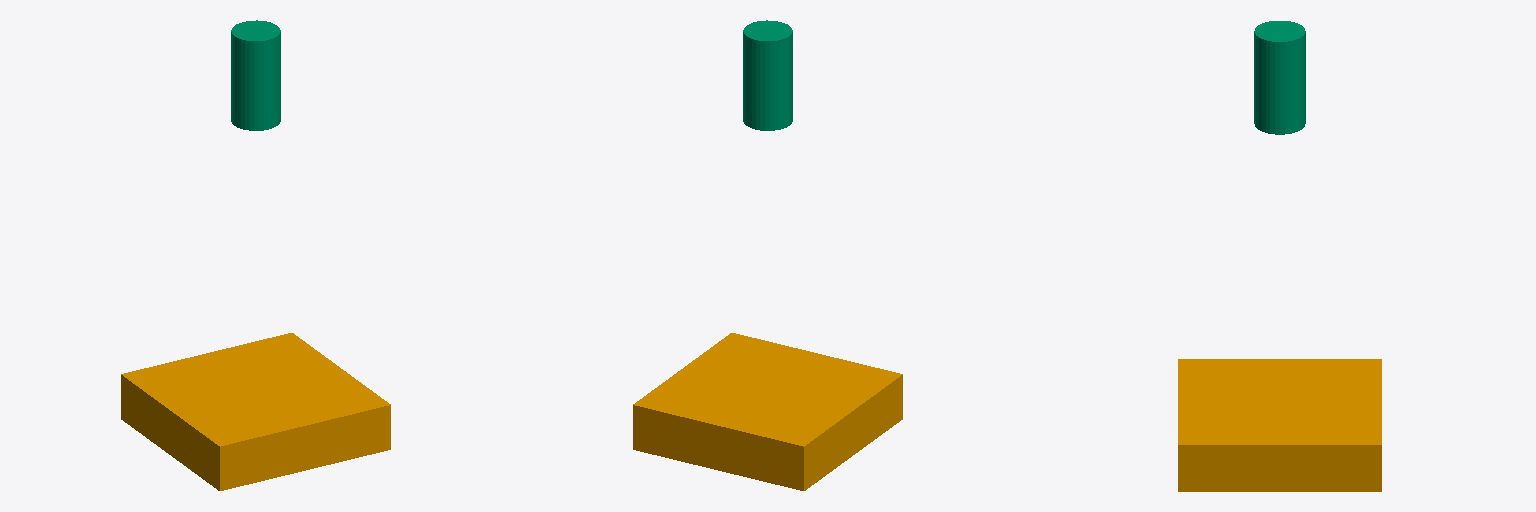
The robot description file, URDF, robot "myArm":
<?xml version="1.0"?>
<robot name="myArm">
  <link name="base_link">
    <visual>
      <geometry>
        <box size="4 4 1"/>
      </geometry>
    </visual>
  </link>

  <link name="arm1">
    <visual>
      <geometry>
        <mesh filename="file:[local-path]/catkin_ws/src/noob_tutorial/urdf_tutorial/urdf/Ellipse.dae"/>
      </geometry>
      <origin rpy="0 1.57 0" xyz="0 0 3"/>
    </visual>
  </link>

  <link name="arm2">
    <visual>
      <geometry>
        <cylinder length="2" radius="0.5"/>
      </geometry>
      <origin rpy="0 0 0" xyz="0 0 1"/>
    </visual>
  </link>

  
  <joint name="base_to_arm1" type="continuous">
    <parent link ="base_link"/>
    <child link="arm1"/>
    <origin rpy="0 0 0" xyz="0 0 0.5"/>
    <limit effort="30" velocity="1.0" lower="0" upper="1.57"/>
  </joint>

  <joint name="arm1_to_arm2" type="revolute">
    <parent link ="arm1"/>
    <child link="arm2"/>
    <origin rpy="0 0 0" xyz="0 0 6"/>
    <axis xyz="0 1 0" />
    <limit effort="30" velocity="1.0" lower="-0.78" upper="0.78"/>
  </joint>
</robot>

--- What the picture shows (computed from the rendered views, not written in the file) ---
The picture shows the robot from 3 angles, left to right: view 1: azimuth 30°, elevation 25°; view 2: azimuth 150°, elevation 25°; view 3: azimuth 270°, elevation 25°; orthographic projection.
Model myArm with 3 links and 2 joints (1 revolute, 1 continuous), rooted at base_link, posed every joint at zero.
Visible links, largest first — view 1: base_link, arm2; view 2: base_link, arm2; view 3: base_link, arm2.
Link boxes in pixels (x1=…): base_link: x1=121, y1=333, x2=390, y2=490; arm2: x1=231, y1=20, x2=280, y2=130; base_link: x1=633, y1=333, x2=902, y2=490; arm2: x1=743, y1=20, x2=792, y2=130; base_link: x1=1178, y1=359, x2=1381, y2=491; arm2: x1=1254, y1=21, x2=1305, y2=134.
Size in the robot's own frame: 4 by 4 by 9 metres.
Geometry: only primitive shapes (box / cylinder / sphere) drawn; not drawn: 1 mesh visual (reference in a form the renderer does not follow).